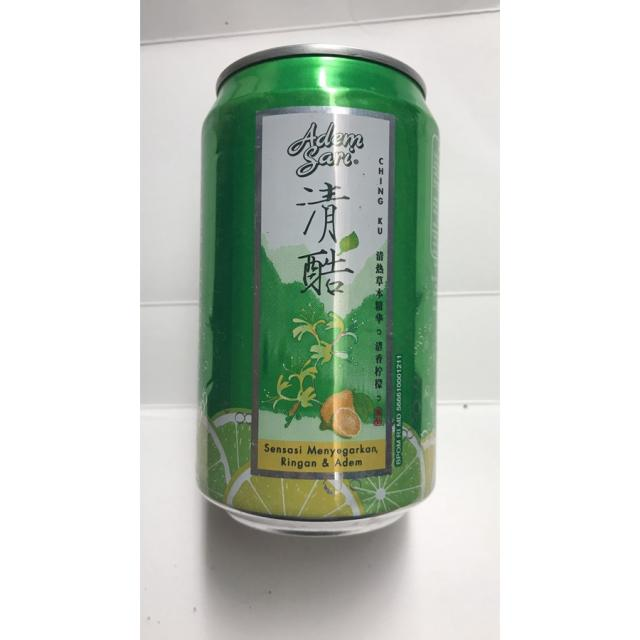ademsarikaleng: (194, 42, 441, 538)
